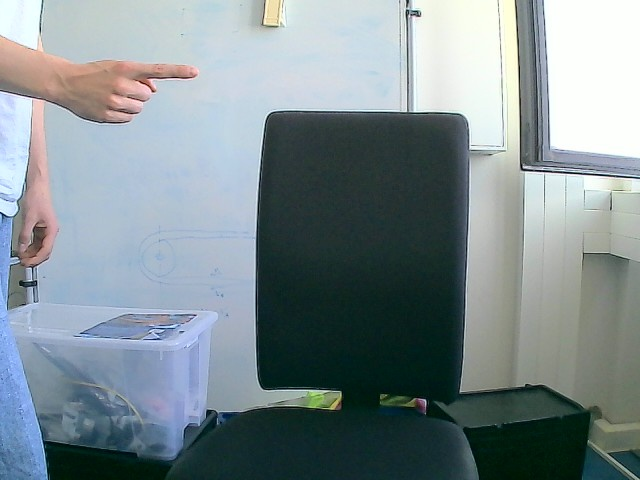left: (60, 58, 200, 126)
